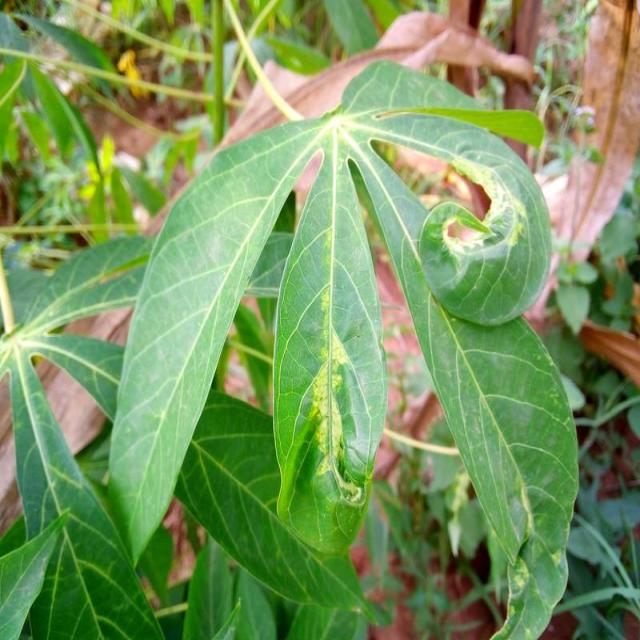cassava leaf: (104, 58, 578, 634), (271, 131, 388, 556)
